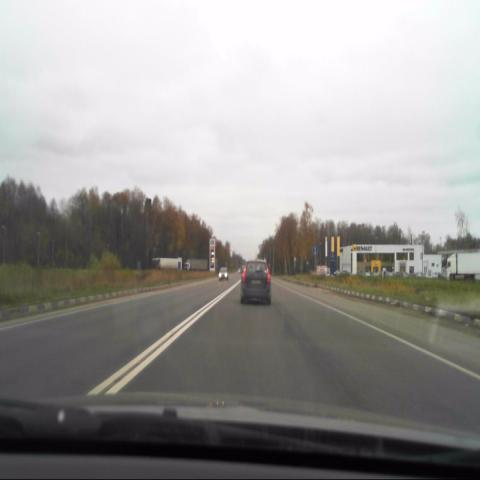4_1_1: (311, 244, 318, 255)
